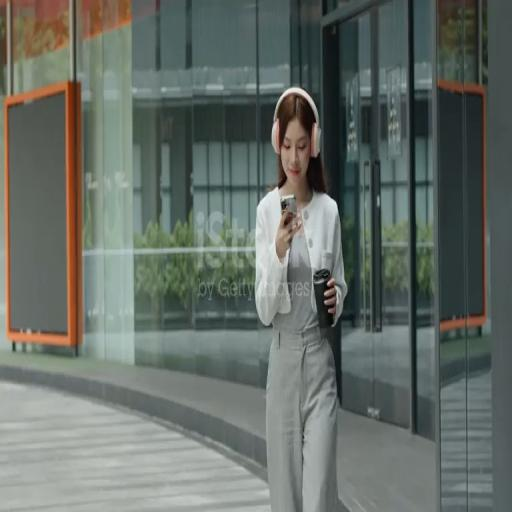earphone: (264, 84, 331, 168)
